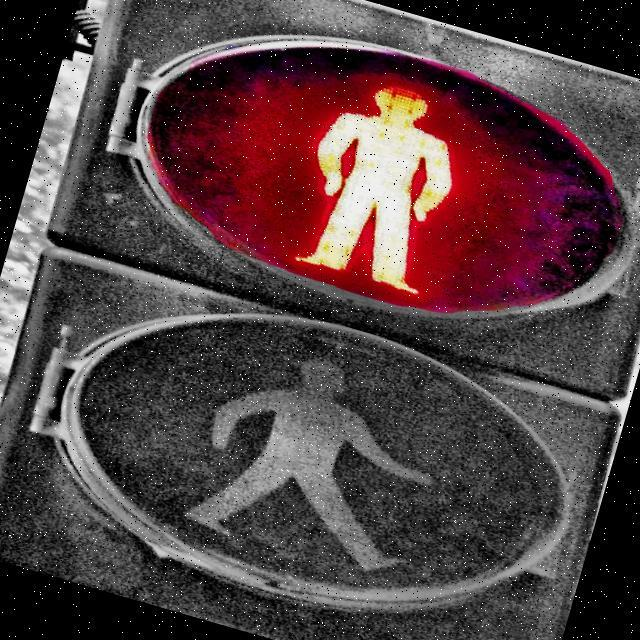red_light: (269, 58, 486, 306)
